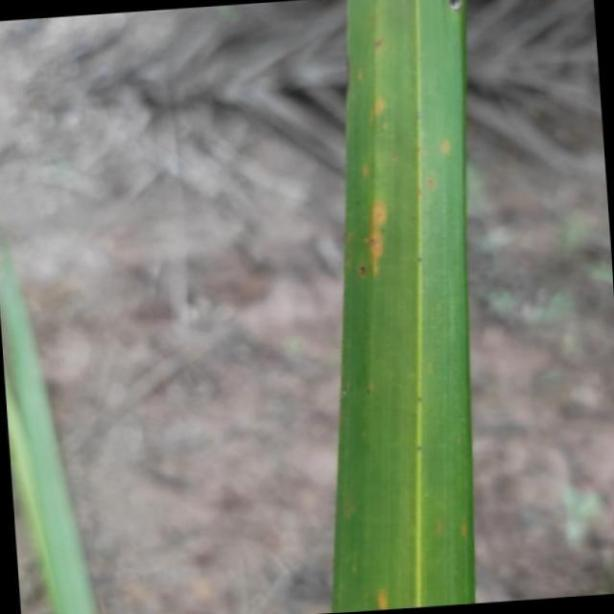Kalium: (340, 0, 476, 614)
